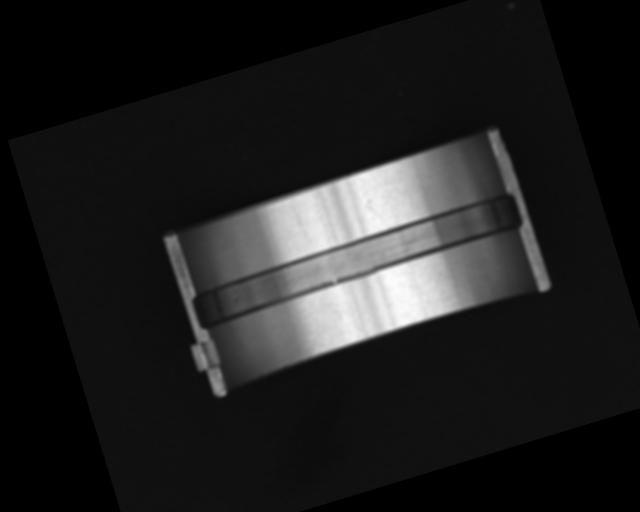gap: (189, 189, 527, 330)
nick: (291, 204, 309, 238)
